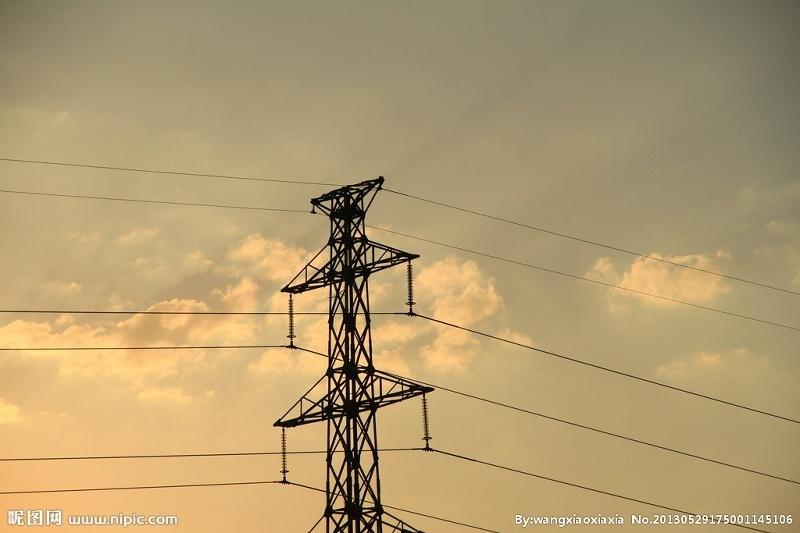power_tower: (266, 182, 435, 529)
